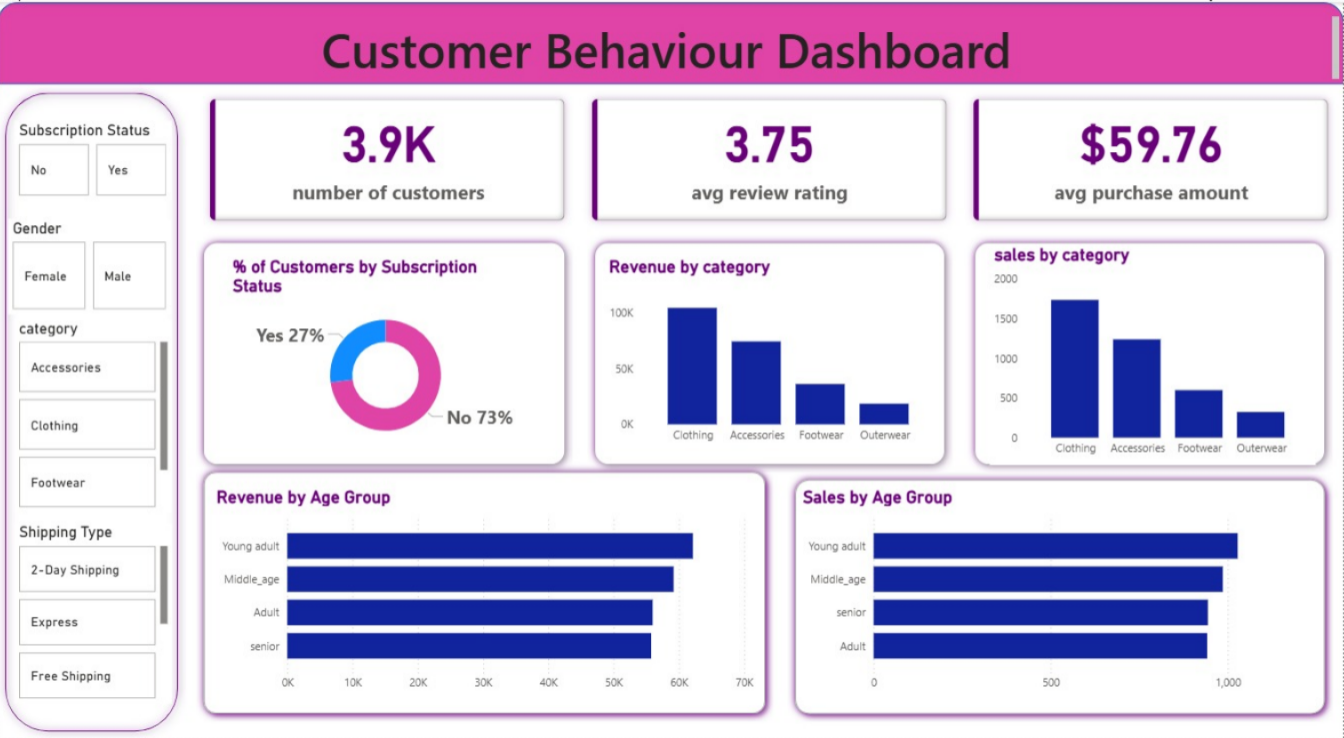

What the dashboard file says about the page in this screenshot:
{"tool":"powerbi","page":{"name":"Page 1","canvas":[1500,820],"ordinal":0},"visuals":[{"type":"cardVisual","fields":{"Data":["customer customer_behaviour.number of customers","customer customer_behaviour.avg review rating","customer customer_behaviour.avg purchase amount"]},"box":[221.9,91.7,1278.4,167.2],"z":0},{"type":"shape","box":[0,0,1500.3,91.7],"z":1000},{"type":"textbox","box":[0,11.3,1500.3,80.4],"z":2000},{"type":"shape","box":[221.9,258.9,419.7,263.7],"z":3000},{"type":"donutChart","title":"% of Customers by Subscription Status","fields":{"Category":["customer customer_behaviour.subscription_status"],"Y":["customer customer_behaviour.number of customers"]},"box":[257.3,283,350.6,217.1],"z":4000},{"type":"shape","box":[1080.6,258.9,406.8,263.7],"z":5000},{"type":"shape","box":[657.7,258.9,406.8,263.7],"z":6000},{"type":"clusteredColumnChart","title":"Revenue by category","fields":{"Y":["Sum(customer customer_behaviour.purchase_amount)"],"Category":["customer customer_behaviour.category"]},"box":[677,283,374.7,217.1],"z":7000},{"type":"clusteredColumnChart","title":"sales by category","fields":{"Category":["customer customer_behaviour.category"],"Y":["customer customer_behaviour.number of customers"]},"box":[1106.4,270.2,363.4,244.4],"z":8000},{"type":"shape","box":[0,91.7,210.7,728.5],"z":9000},{"type":"advancedSlicerVisual","fields":{"Values":["customer customer_behaviour.subscription_status"]},"box":[19.3,131.9,175.3,88.4],"z":10000},{"type":"advancedSlicerVisual","fields":{"Values":["customer customer_behaviour.gender"]},"box":[12.9,241.2,181.7,106.1],"z":11000},{"type":"advancedSlicerVisual","fields":{"Values":["customer customer_behaviour.category"]},"box":[19.3,352.2,175.3,215.5],"z":12000},{"type":"advancedSlicerVisual","fields":{"Values":["customer customer_behaviour.shipping_type"]},"box":[19.3,578.9,175.3,201],"z":13000},{"type":"shape","box":[221.9,514.6,643.2,286.2],"z":14000},{"type":"clusteredBarChart","title":"Revenue by Age Group","fields":{"Y":["Sum(customer customer_behaviour.purchase_amount)"],"Category":["customer customer_behaviour.age_group"]},"box":[239.6,538.7,607.8,236.4],"z":15000},{"type":"shape","box":[879.6,522.6,607.8,278.2],"z":15001},{"type":"clusteredBarChart","title":"Sales  by Age Group","fields":{"Category":["customer customer_behaviour.age_group"],"Y":["CountNonNull(customer customer_behaviour.customer_id)"]},"box":[892.5,538.7,577.3,236.4],"z":15002}]}

Visuals, with their boxes in screenshot pixels (x1, y1, x2, y2), scaled from the page's 1500x820 canvas onto the 1344x738 screenshot:
cardVisual - customer customer_behaviour.number of customers x customer customer_behaviour.avg review rating: 199,83,1343,233
shape: 0,0,1343,83
textbox: 0,10,1343,83
shape: 199,233,575,470
"% of Customers by Subscription Status" donutChart: 231,255,545,450
shape: 968,233,1333,470
shape: 589,233,954,470
"Revenue by category" clusteredColumnChart: 607,255,942,450
"sales by category" clusteredColumnChart: 991,243,1317,463
shape: 0,83,189,737
advancedSlicerVisual - customer customer_behaviour.subscription_status: 17,119,174,198
advancedSlicerVisual - customer customer_behaviour.gender: 12,217,174,313
advancedSlicerVisual - customer customer_behaviour.category: 17,317,174,511
advancedSlicerVisual - customer customer_behaviour.shipping_type: 17,521,174,702
shape: 199,463,775,721
"Revenue by Age Group" clusteredBarChart: 215,485,759,698
shape: 788,470,1333,721
"Sales  by Age Group" clusteredBarChart: 800,485,1317,698
